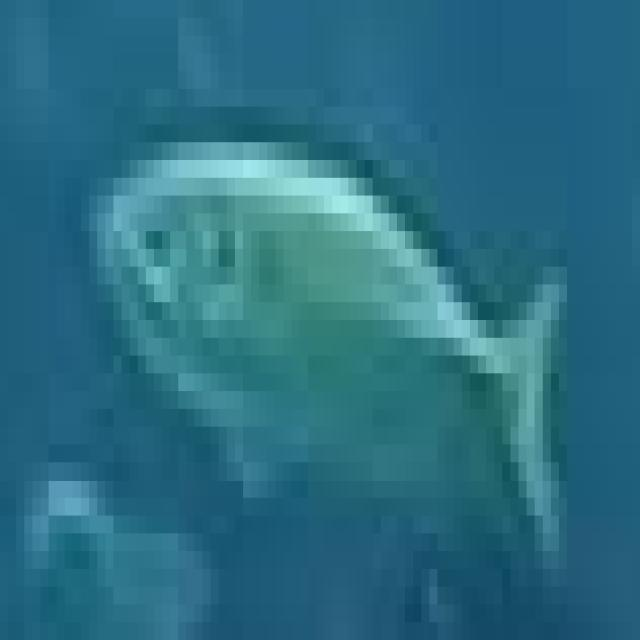fish: (0, 18, 632, 640)
